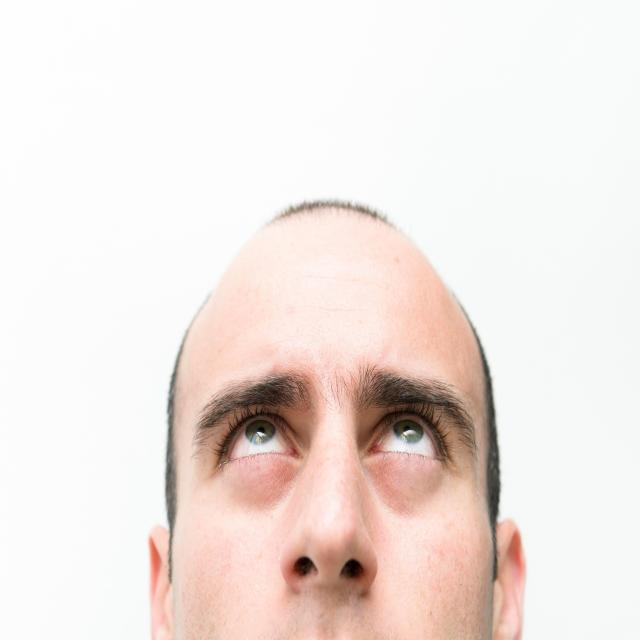no_helmet: (130, 171, 522, 463)
